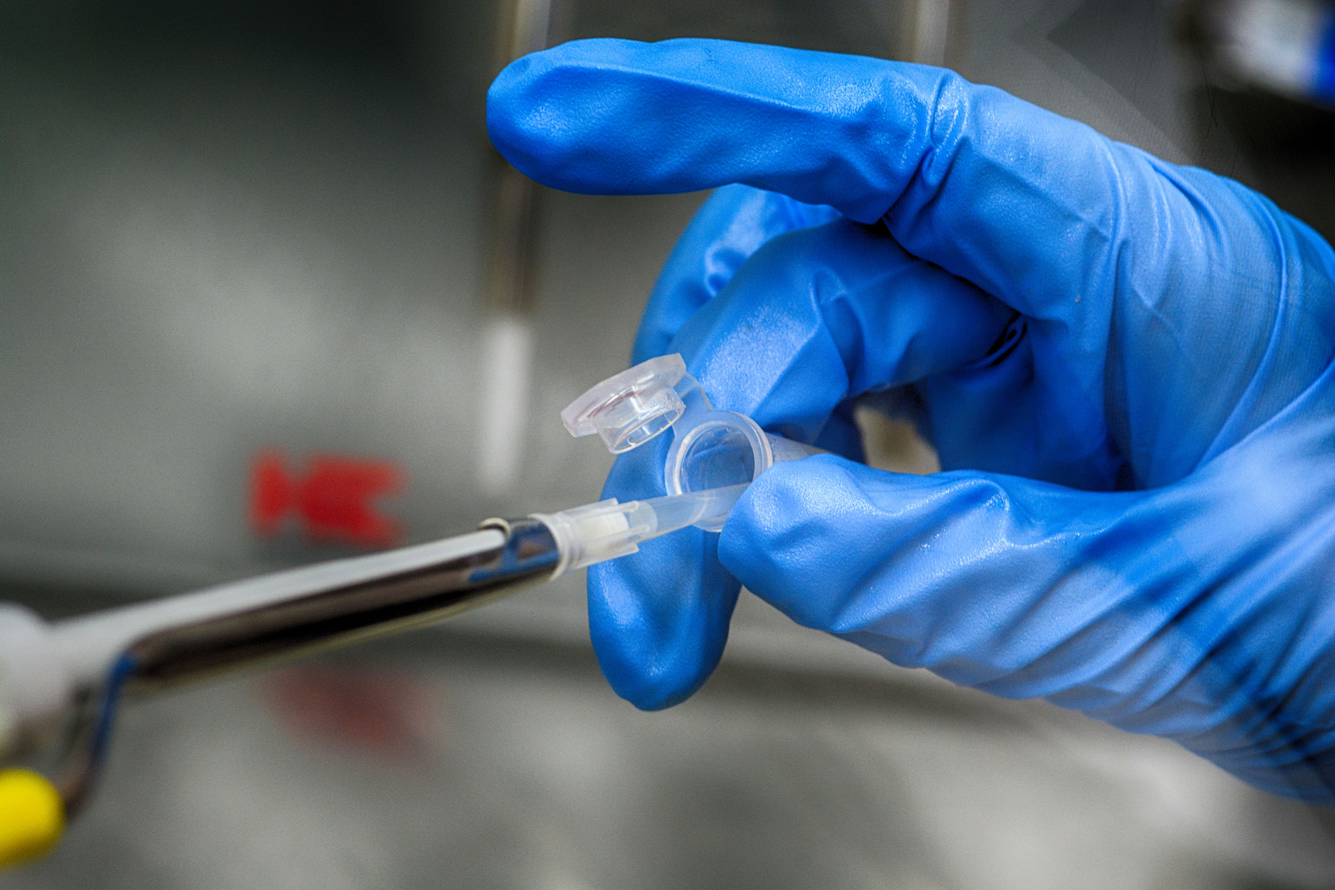gloves-on: (457, 24, 1335, 819)
tools-on: (0, 479, 754, 817)
